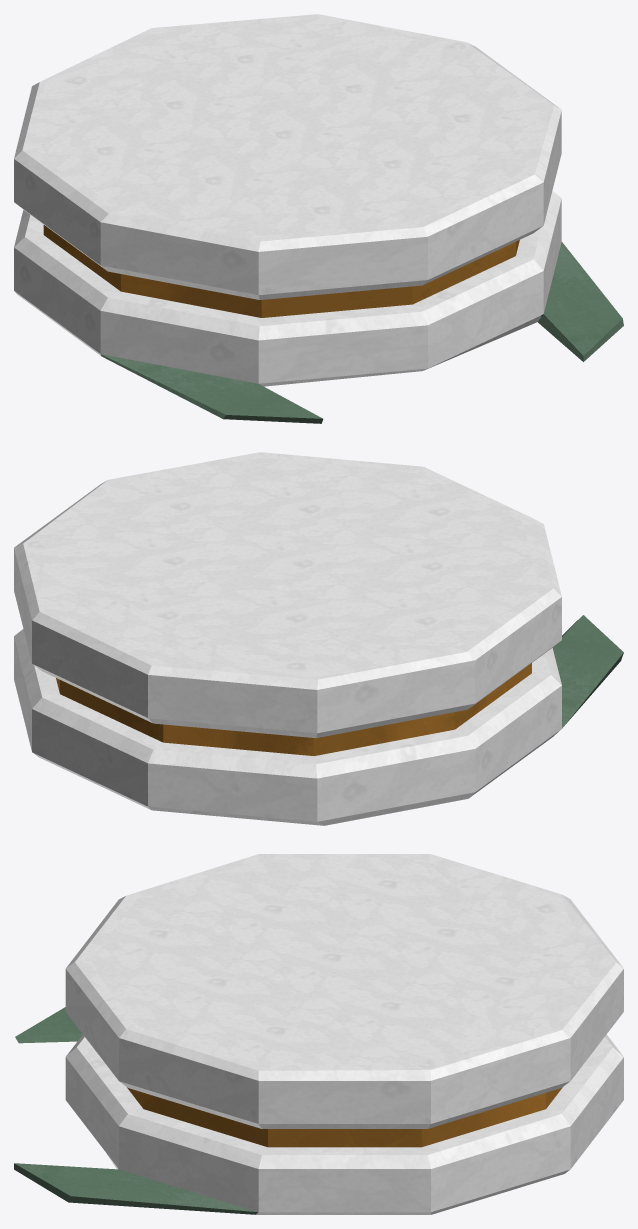
The model's file is roomba.fbx.
3 views of the same model, one above another, from view 1: azimuth 30°, elevation 25°; view 2: azimuth 150°, elevation 25°; view 3: azimuth 270°, elevation 25° (orthographic).
Visible parts, largest first — view 1: Circle, Circle.001; view 2: Circle, Circle.001; view 3: Circle, Circle.001.
Boxes of the visible parts, x1,y1,x2,y2 form: Circle: (14,14,623,423); Circle.001: (38,47,540,235); Circle: (14,452,623,825); Circle.001: (38,458,539,645); Circle: (14,854,623,1214); Circle.001: (88,859,547,1065).
Bounding box in the file's own units: 190 × 56.99 × 218.
